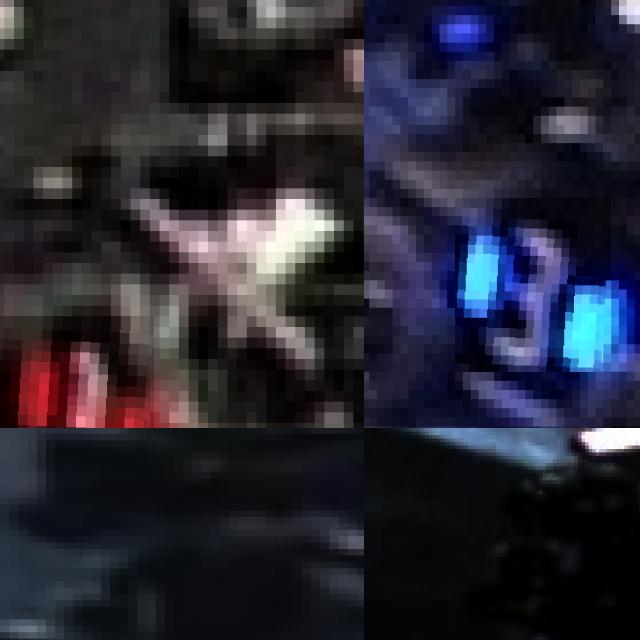B3: (455, 198, 611, 372)
R3: (0, 316, 154, 428)
